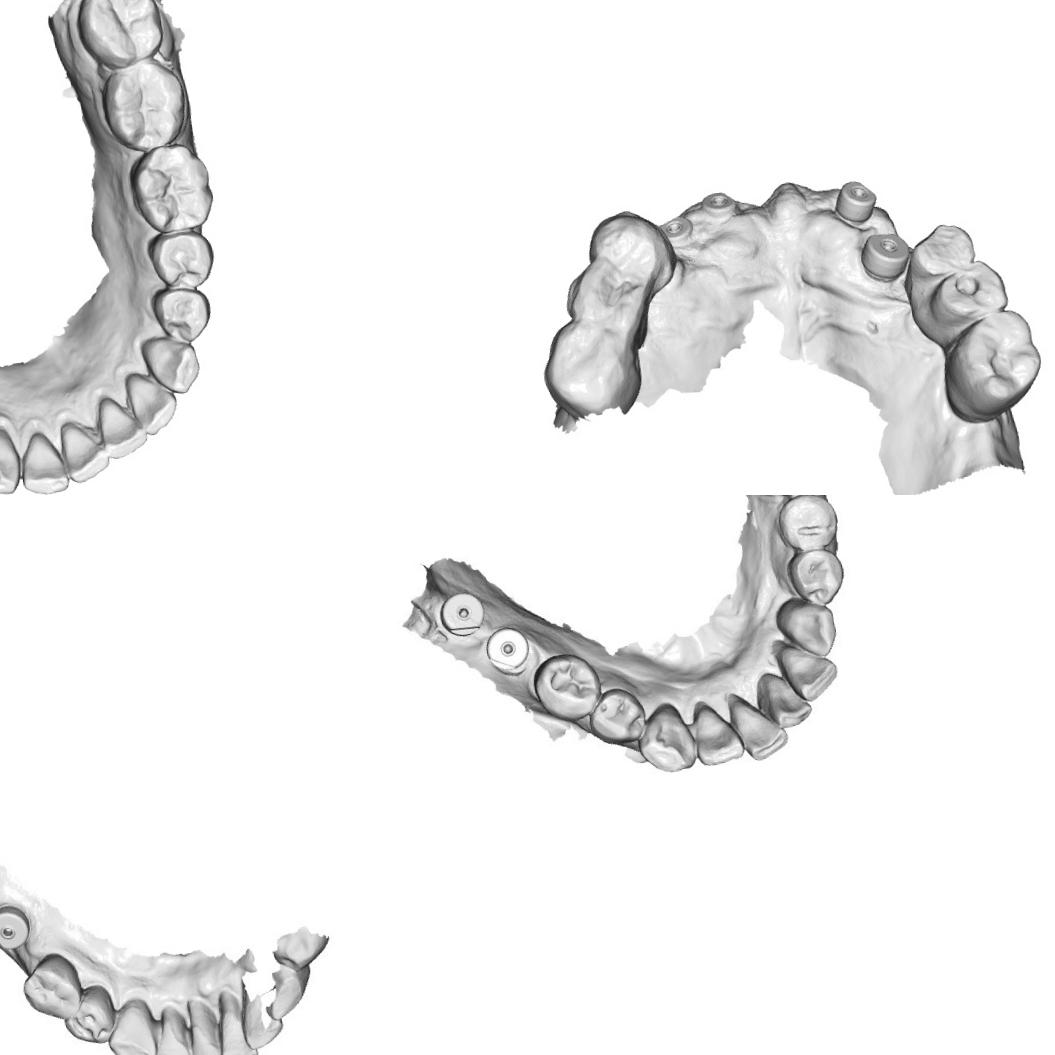canine: (636, 700, 698, 778), (139, 331, 207, 399), (774, 595, 840, 660), (105, 998, 158, 1055), (0, 423, 20, 495)
implant: (434, 587, 491, 644), (478, 622, 535, 679), (856, 228, 912, 284), (830, 178, 881, 224), (0, 899, 39, 957), (696, 186, 740, 222), (656, 212, 695, 244)
incisor: (726, 688, 790, 762), (776, 637, 839, 706), (122, 368, 181, 438), (56, 416, 114, 486), (688, 696, 744, 768), (92, 391, 148, 462), (14, 428, 70, 495), (762, 674, 812, 733), (182, 997, 228, 1055), (214, 996, 258, 1055), (150, 1007, 198, 1055)
molar: (937, 306, 1048, 422), (538, 314, 649, 426), (126, 136, 214, 241), (99, 54, 188, 156), (73, 0, 167, 70)
premolar: (582, 202, 680, 293), (555, 256, 652, 344), (924, 255, 1014, 331), (144, 225, 218, 295), (904, 218, 980, 286), (531, 652, 600, 723), (20, 954, 88, 1020), (586, 681, 648, 749), (150, 284, 215, 347), (57, 984, 120, 1048), (788, 549, 852, 610), (778, 495, 840, 554)
